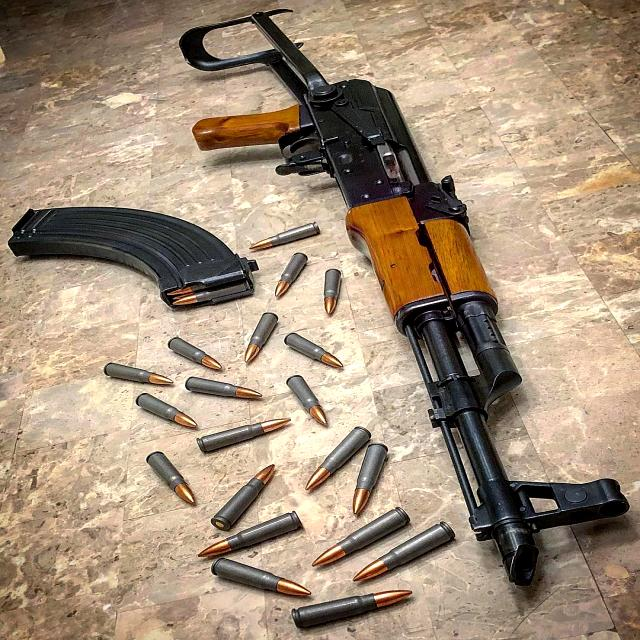ak: (172, 11, 640, 592)
